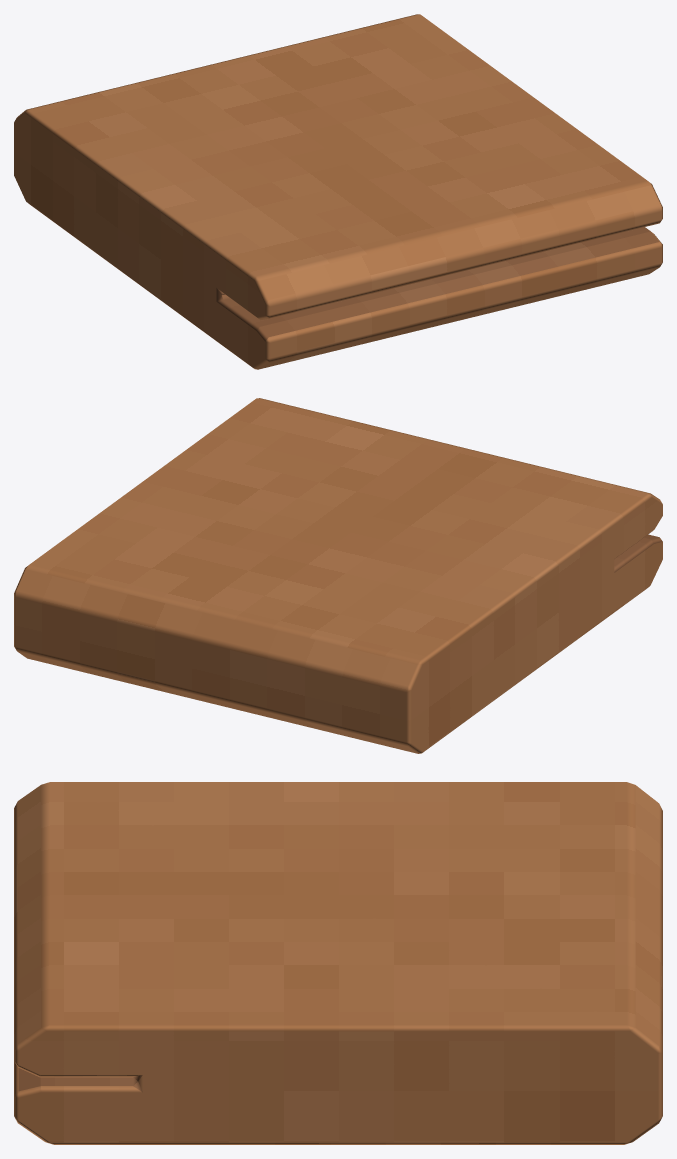
File: Fold-1.glb
The picture shows the model from 3 angles, top to bottom: view 1: azimuth 30°, elevation 25°; view 2: azimuth 150°, elevation 25°; view 3: azimuth 270°, elevation 25°; orthographic projection. The views are drawn at different scales.
Visible parts, largest first — view 1: Fold-1; view 2: Fold-1; view 3: Fold-1.
Part boxes in pixels (left/top/right/bottom): Fold-1: left=14, top=14, right=662, bottom=369; Fold-1: left=14, top=398, right=662, bottom=753; Fold-1: left=14, top=782, right=662, bottom=1144.
Size of the model in its own units: 0.414 by 0.094 by 0.46.
Materials: 2 (2 with a texture image).
